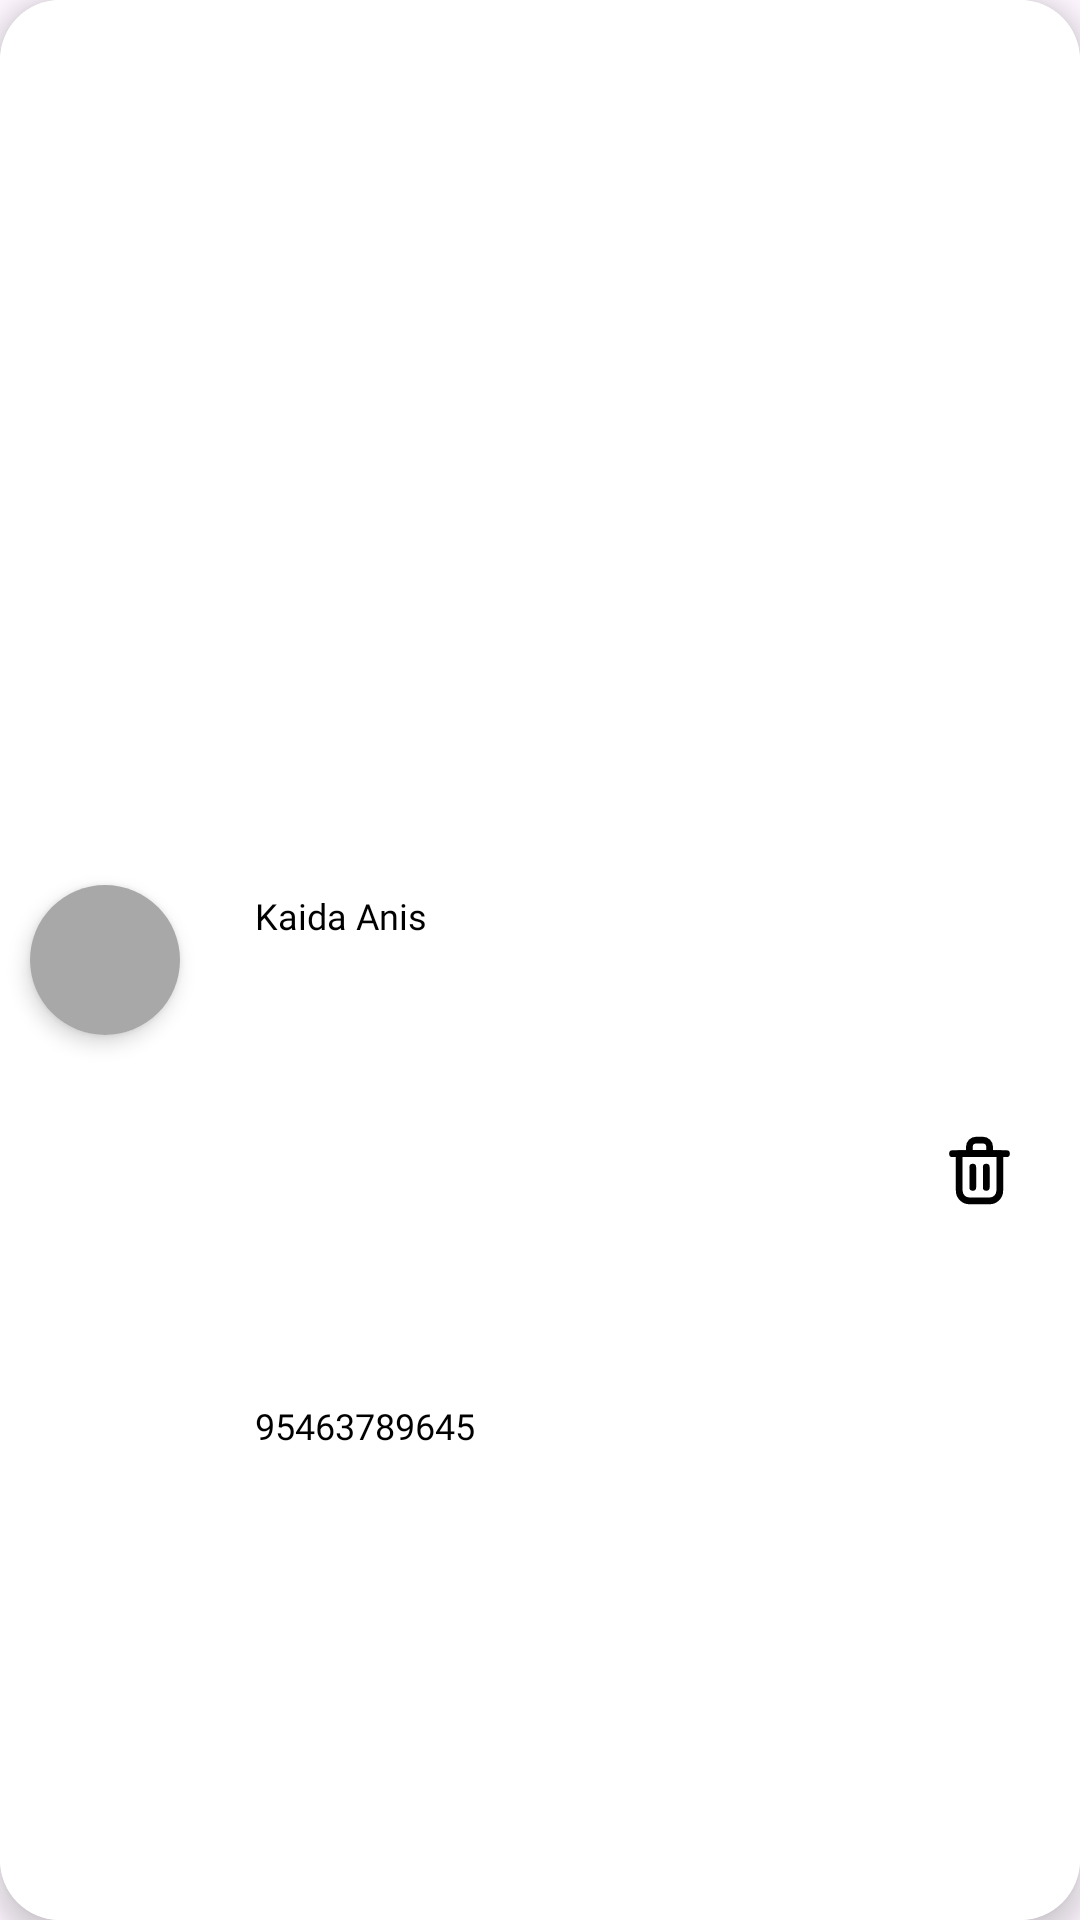

Screen size 1080px×1920px. Icon name, then its box in pixels as region(x1, y1, x2, y2):
delete: region(949, 1136, 1010, 1205)
